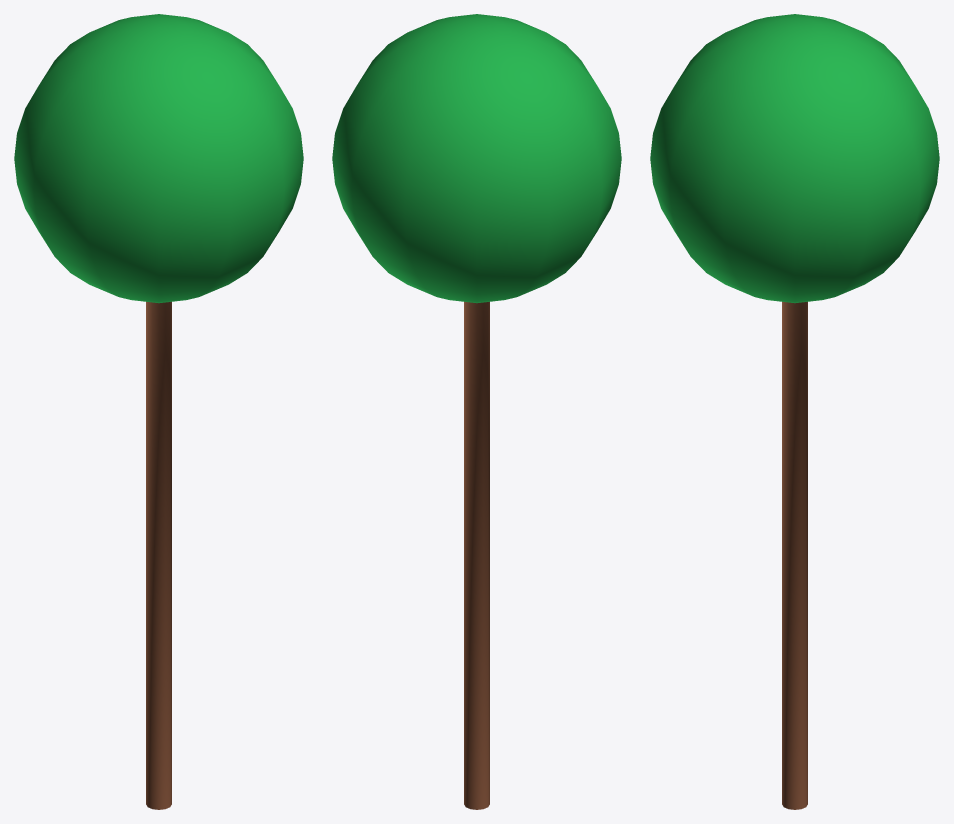
The model's file is tree.fbx.
3 renders of one model, left to right at view 1: azimuth 30°, elevation 25°; view 2: azimuth 150°, elevation 25°; view 3: azimuth 270°, elevation 25°, orthographic.
Parts seen in each view (by area): view 1: Tree; view 2: Tree; view 3: Tree.
Part boxes in pixels (x1,y1,x2,y2): Tree: [14, 14, 303, 809]; Tree: [332, 14, 621, 809]; Tree: [650, 14, 939, 809].
Size of the model in its own units: 7.88 by 23.35 by 7.88.
